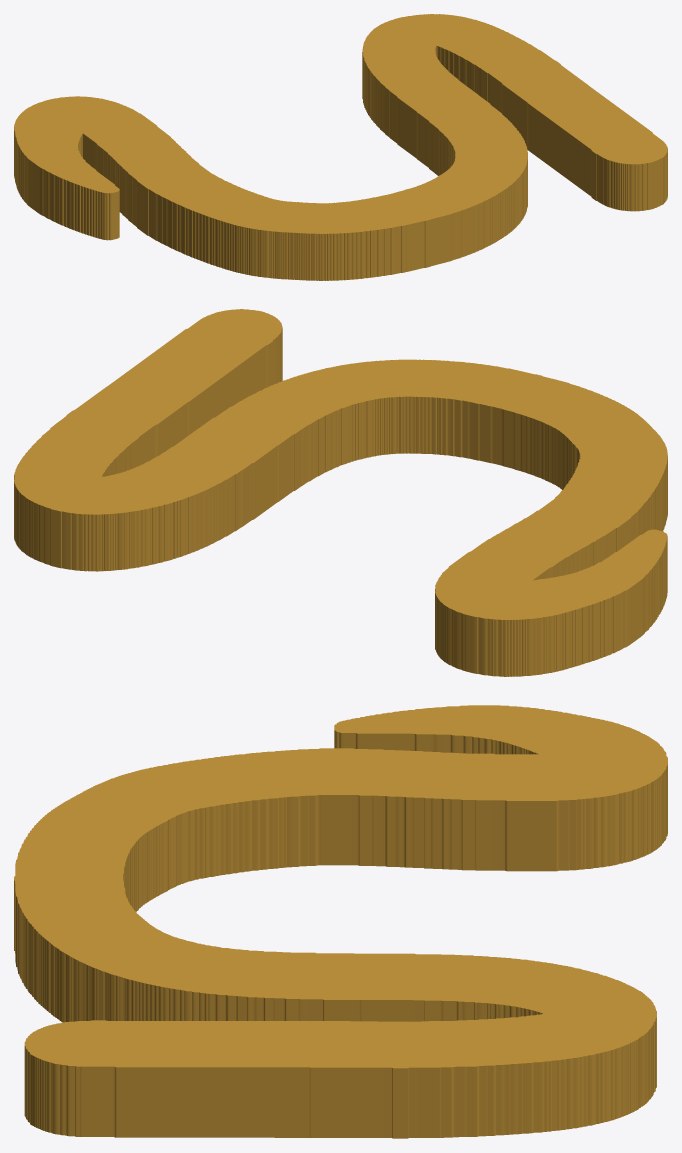
3 renders of one model, top to bottom at view 1: azimuth 30°, elevation 25°; view 2: azimuth 150°, elevation 25°; view 3: azimuth 270°, elevation 25°, orthographic. The views are drawn at different scales.
Parts seen in each view (by area): view 1: Curve.014; view 2: Curve.014; view 3: Curve.014.
Boxes of the visible parts, bbox=[...] form: Curve.014: bbox=[14, 14, 667, 280]; Curve.014: bbox=[14, 309, 667, 676]; Curve.014: bbox=[14, 705, 667, 1138].
Size of the model in its own units: 102 by 9.19 by 77.42.
